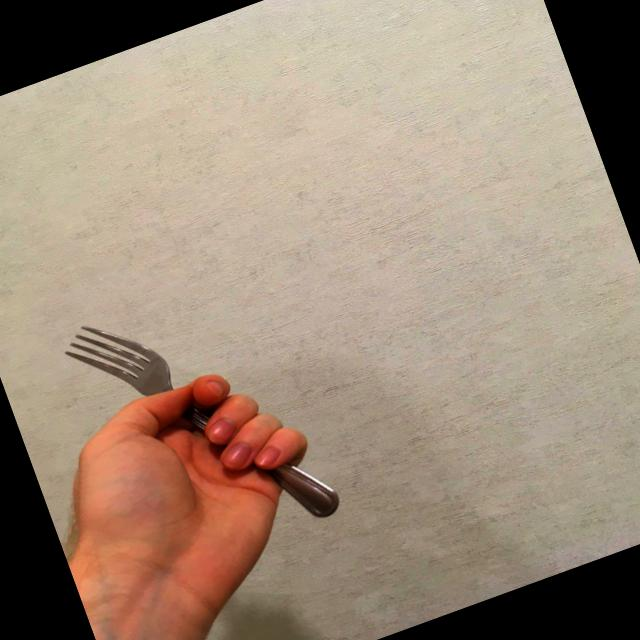fork: (54, 264, 345, 583)
